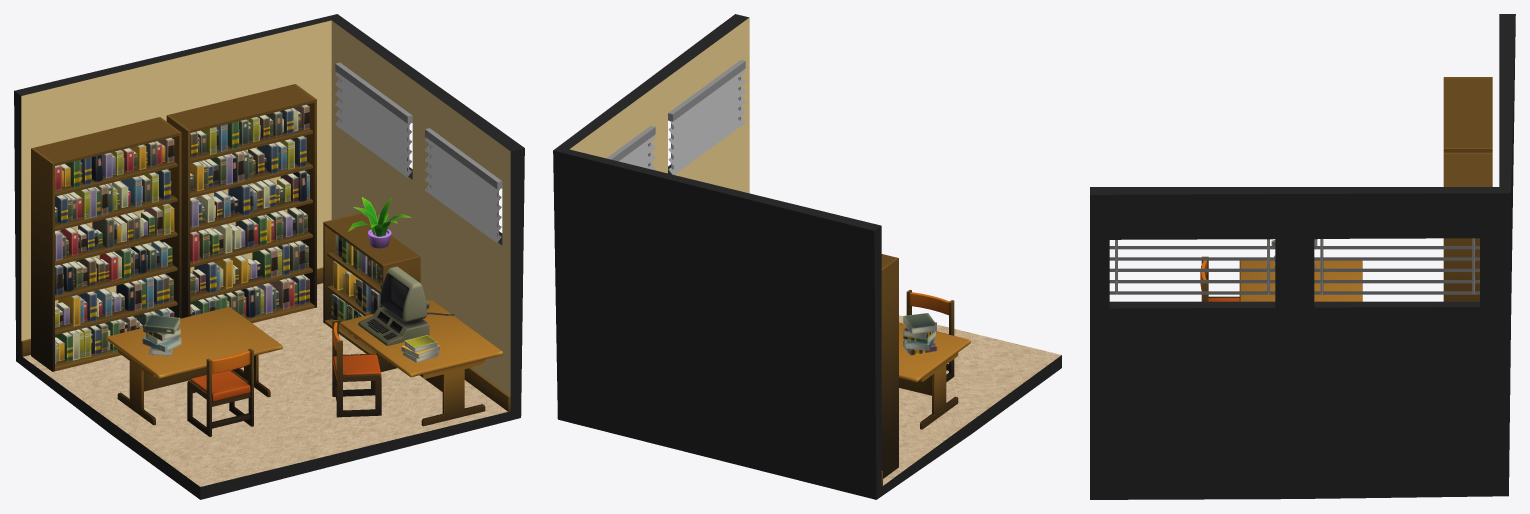
The model's file is library.obj.
3 views of the same model, side by side, from view 1: azimuth 30°, elevation 25°; view 2: azimuth 150°, elevation 25°; view 3: azimuth 270°, elevation 25° (orthographic). The views are drawn at different scales.
Parts seen in each view (by area): view 1: walls, bookShelfBig2, bookShelfBig1, blinds, table_long001, bookShelfSmall, table_long, chair001, computer, chair, bookStack1, plant (+2 smaller); view 2: walls, blinds, bookShelfBig2, table_long001, bookStack1, chair001; view 3: walls, blinds, bookShelfBig2, bookShelfBig1, table_long001, chair001.
Boxes of the visible parts, left/top/right/bottom form: walls: left=14, top=14, right=524, bottom=499; bookShelfBig2: left=31, top=117, right=181, bottom=371; bookShelfBig1: left=166, top=84, right=316, bottom=323; blinds: left=335, top=62, right=502, bottom=242; table_long001: left=106, top=307, right=282, bottom=425; bookShelfSmall: left=323, top=213, right=420, bottom=354; table_long: left=339, top=300, right=502, bottom=426; chair001: left=187, top=348, right=253, bottom=436; computer: left=358, top=266, right=429, bottom=345; chair: left=332, top=320, right=381, bottom=417; bookStack1: left=142, top=315, right=181, bottom=356; plant: left=348, top=196, right=411, bottom=248; walls: left=553, top=14, right=1061, bottom=499; blinds: left=606, top=60, right=745, bottom=174; bookShelfBig2: left=881, top=254, right=898, bottom=478; table_long001: left=899, top=322, right=970, bottom=429; bookStack1: left=902, top=313, right=937, bottom=355; chair001: left=906, top=290, right=954, bottom=382; walls: left=1090, top=14, right=1515, bottom=499; blinds: left=1109, top=238, right=1479, bottom=294; bookShelfBig2: left=1443, top=77, right=1492, bottom=152; bookShelfBig1: left=1443, top=152, right=1492, bottom=301; table_long001: left=1239, top=260, right=1362, bottom=301; chair001: left=1200, top=256, right=1239, bottom=301.
Bounding box in the file's own units: 261 × 210 × 260.
